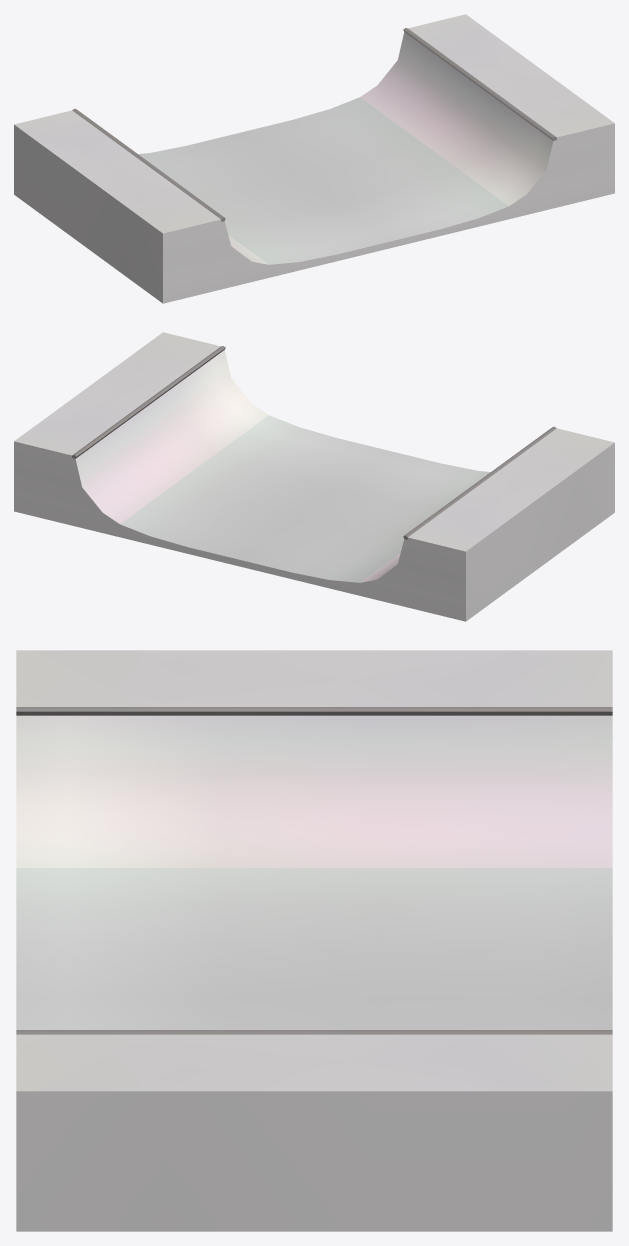
Rendered from HalfPipeCement.glb.
The picture shows the model from 3 angles, top to bottom: view 1: azimuth 30°, elevation 25°; view 2: azimuth 150°, elevation 25°; view 3: azimuth 270°, elevation 25°; orthographic projection. The views are drawn at different scales.
Visible parts, largest first — view 1: HalfPipeCement; view 2: HalfPipeCement; view 3: HalfPipeCement.
Boxes of the visible parts, x1,y1,x2,y2 form: HalfPipeCement: [14, 14, 614, 303]; HalfPipeCement: [14, 332, 614, 621]; HalfPipeCement: [16, 650, 612, 1231].
Bounding box in the file's own units: 14 × 2.11 × 8.
Materials: 1 (1 with a texture image).
